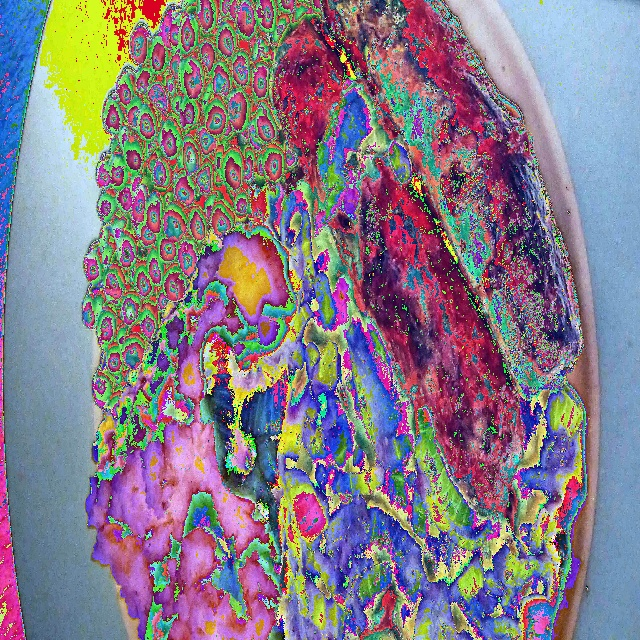background: (83, 0, 584, 640)
